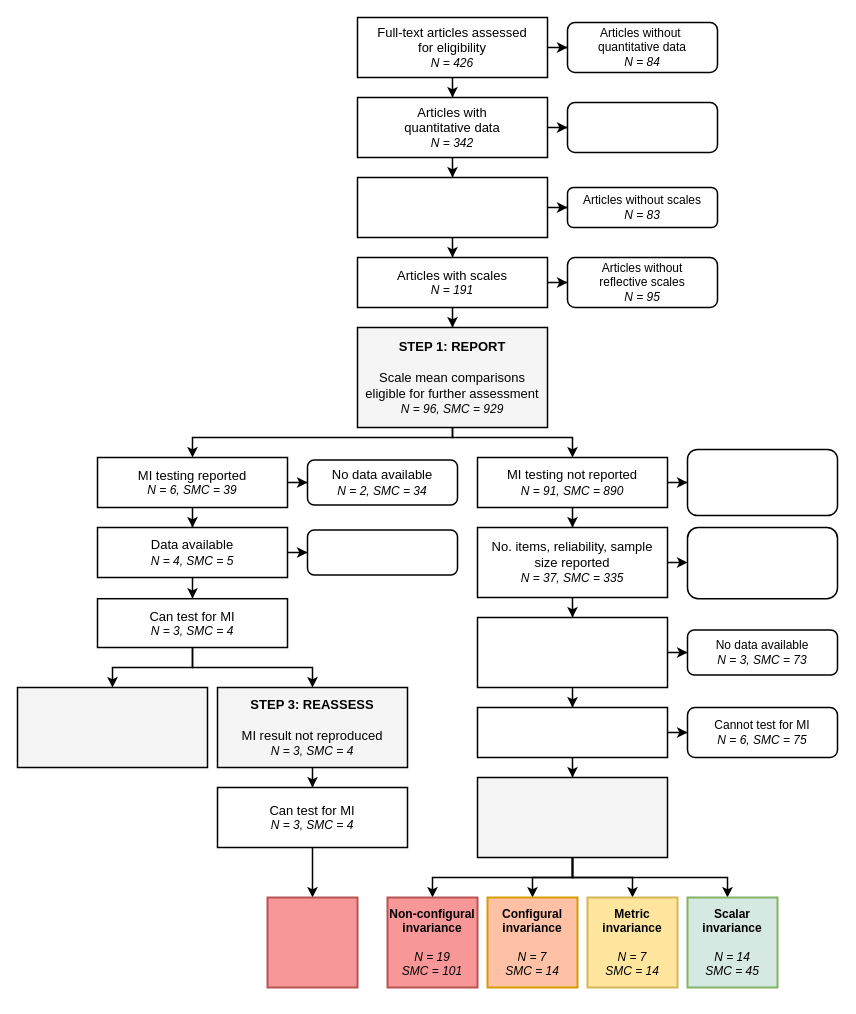
Image size: 856x1014. Some labels were removed from this diagram. Here are the shapes that lost their labels. From the top down, the centre of each, then its label:
point 642,127: Articles without group comparisons N = 68
point 452,207: Articles with group or time comparisons N = 274
point 762,482: No. items, reliability, sample size not reported N = 54, SMC = 555
point 382,552: Cannot test for MI N = 1, SMC = 1
point 762,562: Power to detect moderate non-invariance < .80 N = 2, SMC = 13
point 572,652: Power to detect moderate non-invariance > .80 N = 35, SMC = 322
point 112,727: STEP 2: REPRODUCE MI result reproduced N = 0, SMC = 0
point 572,732: Data available N = 32, SMC = 249
point 572,817: STEP 4: REUSE Can test for MI N = 26, SMC = 174
point 312,942: Non-configural invariance N = 3 SMC = 4
